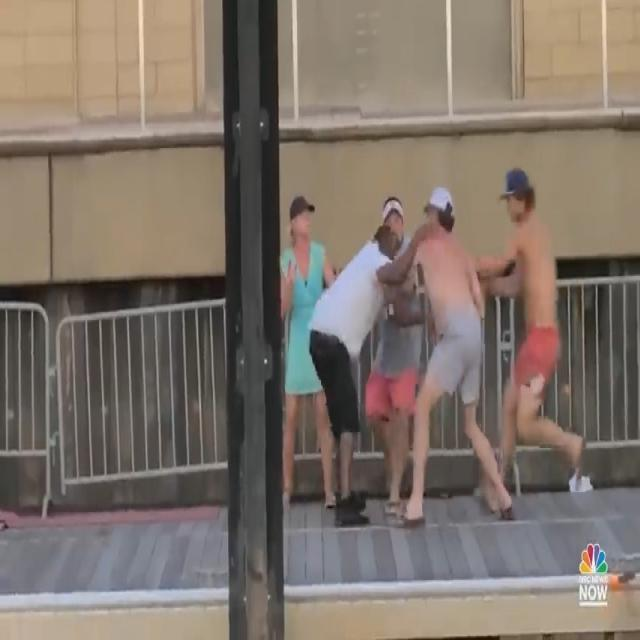fight: (310, 166, 585, 530)
non-fight: (280, 189, 338, 515)
